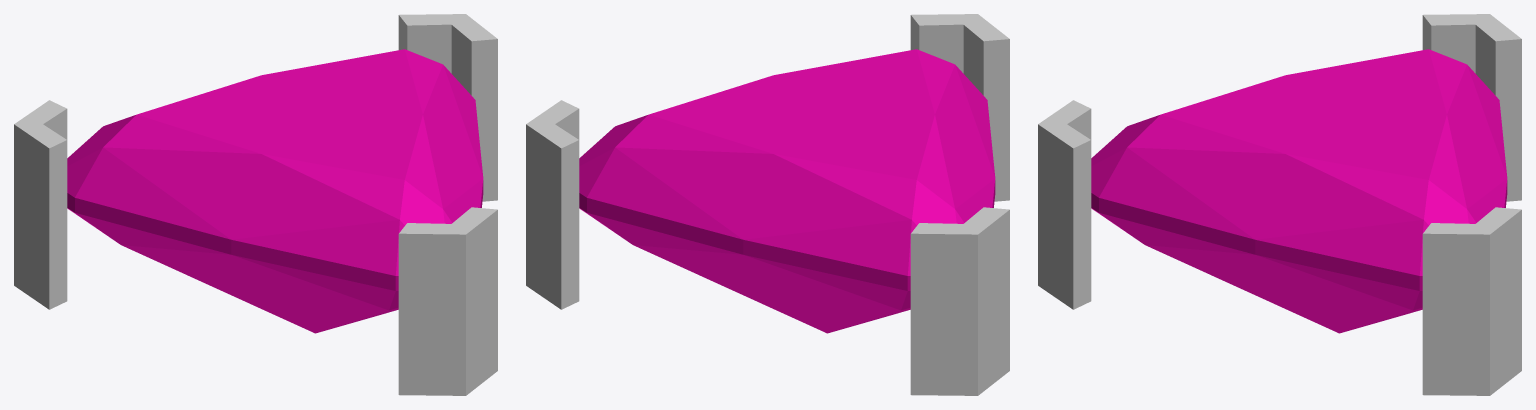
The model's file is topaz_prongs.fbx.
The picture shows the model from 3 angles, left to right: view 1: azimuth 30°, elevation 25°; view 2: azimuth 150°, elevation 25°; view 3: azimuth 270°, elevation 25°; orthographic projection.
Parts seen in each view (by area): view 1: Trilliant, Trilliant Prongs; view 2: Trilliant, Trilliant Prongs; view 3: Trilliant, Trilliant Prongs.
Part boxes in pixels (x1,y1,x2,y2): Trilliant: (67,49,483,333); Trilliant Prongs: (14,14,497,395); Trilliant: (579,49,995,333); Trilliant Prongs: (526,14,1009,395); Trilliant: (1091,49,1507,333); Trilliant Prongs: (1038,14,1521,395).
Size of the model in its own units: 357 by 165 by 331.
